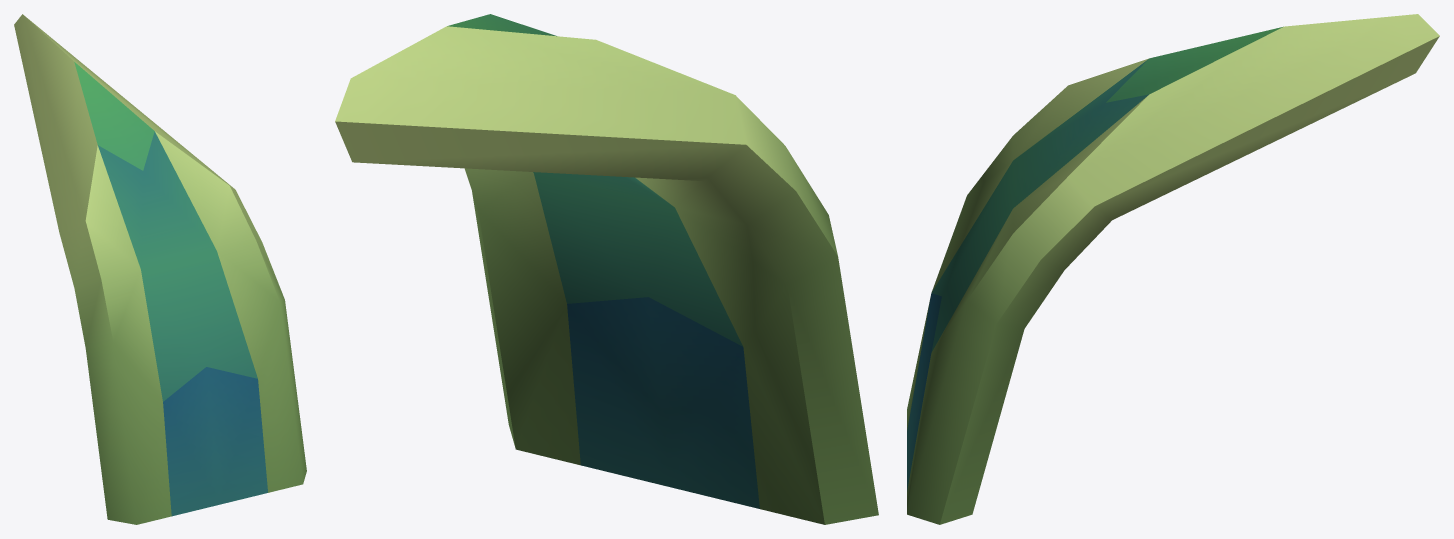
Rendered from house_plants_plants_small_leaf.glb.
3 views of the same model, side by side, from view 1: azimuth 30°, elevation 25°; view 2: azimuth 150°, elevation 25°; view 3: azimuth 270°, elevation 25° (orthographic). The views are drawn at different scales.
Parts seen in each view (by area): view 1: sansevieria_leaf_small_B; view 2: sansevieria_leaf_small_B; view 3: sansevieria_leaf_small_B.
Part boxes in pixels (<box>): sansevieria_leaf_small_B: <box>14,14,306,524</box>; sansevieria_leaf_small_B: <box>335,14,878,524</box>; sansevieria_leaf_small_B: <box>907,14,1439,524</box>.
Size of the model in its own units: 0.2548 by 0.4228 by 0.4558.
1 material, 1 textured.
